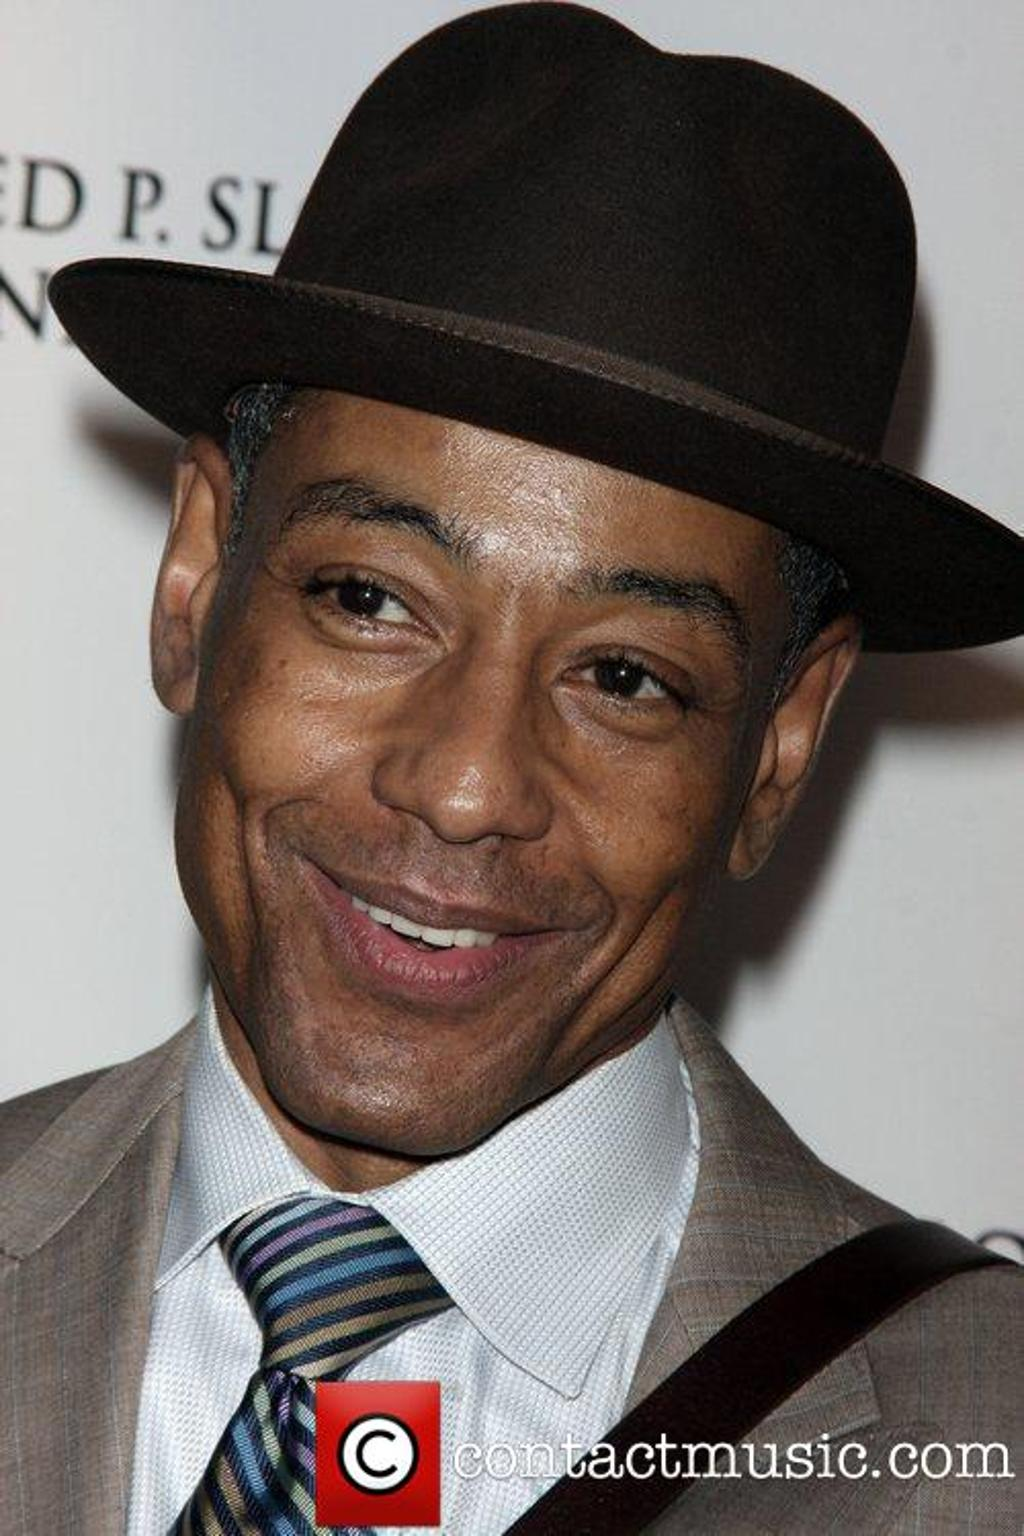face: (180, 300, 829, 1162)
